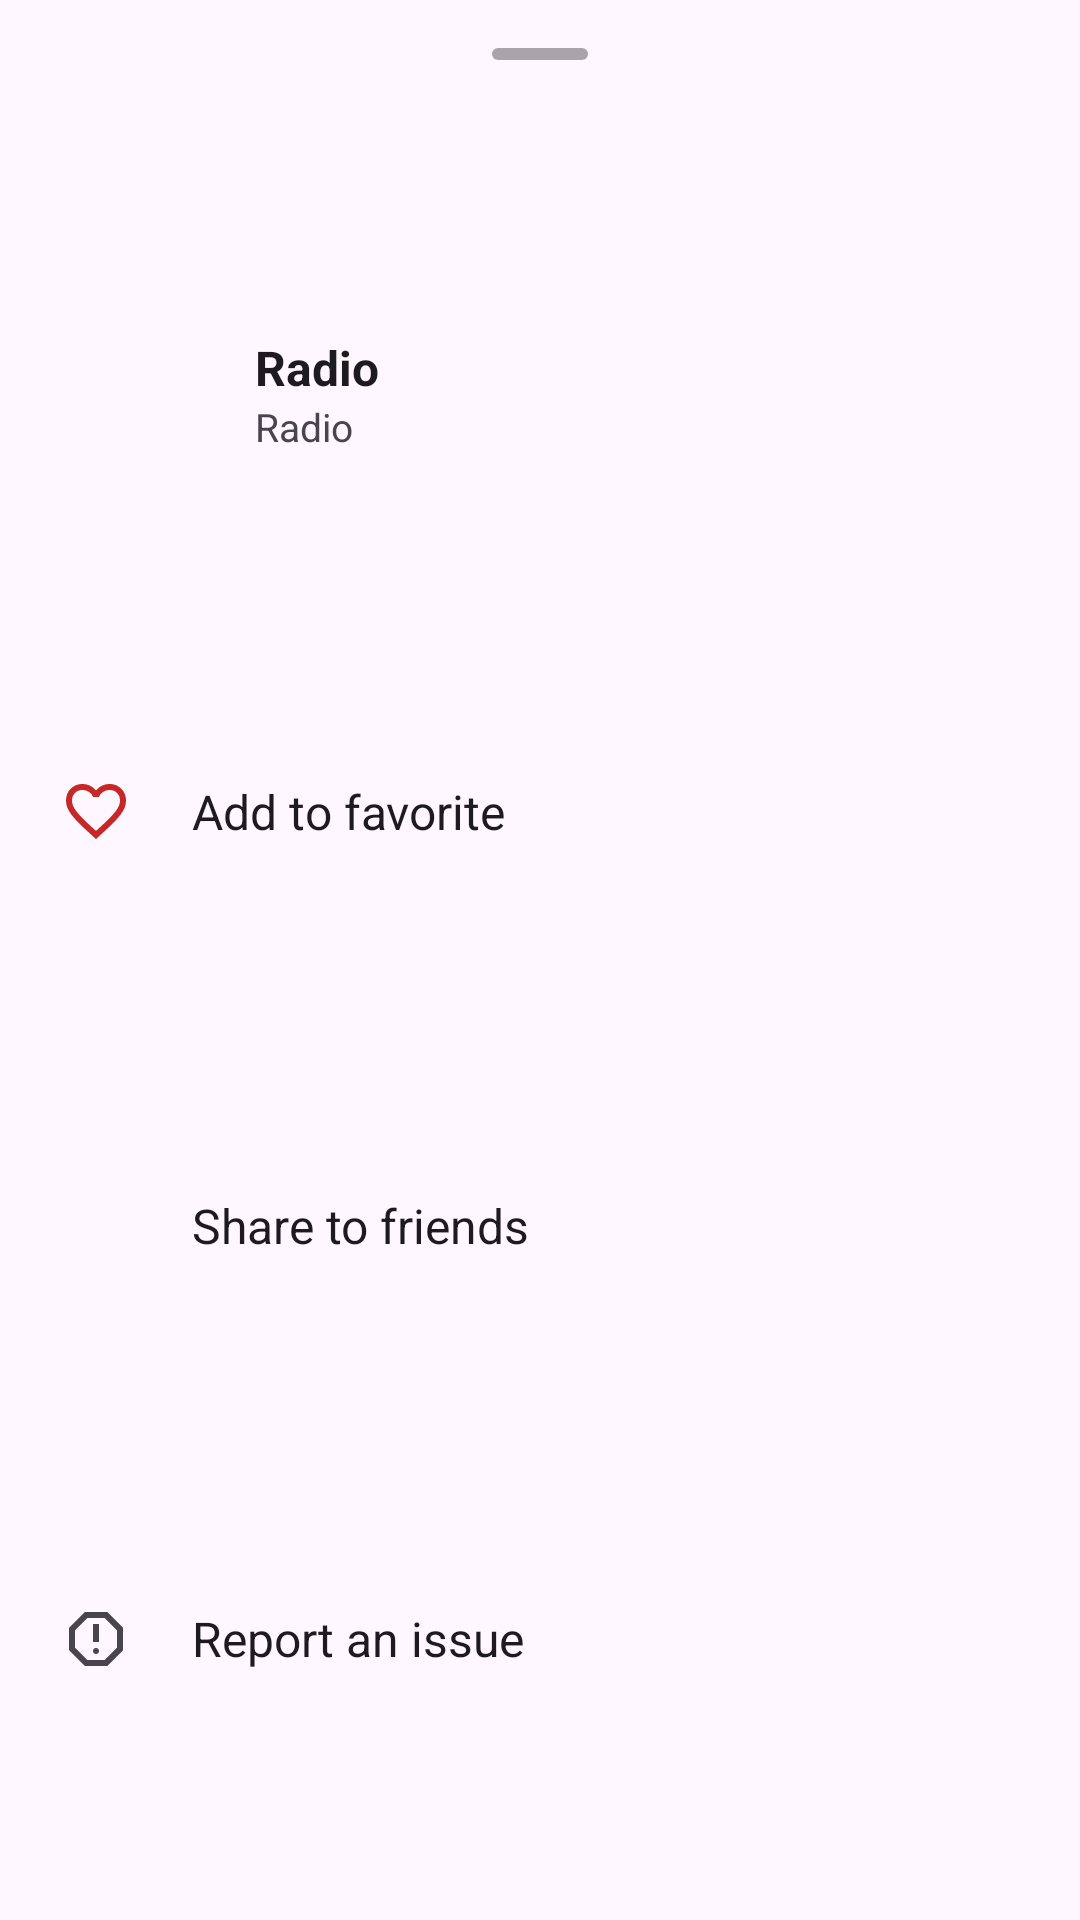

Screen size 1080 × 1920. Icon name, then its box in pixels as [x1=x1, y1=y1, x2=x2, y2=y2]:
favorite border: [x1=66, y1=784, x2=126, y2=839]
